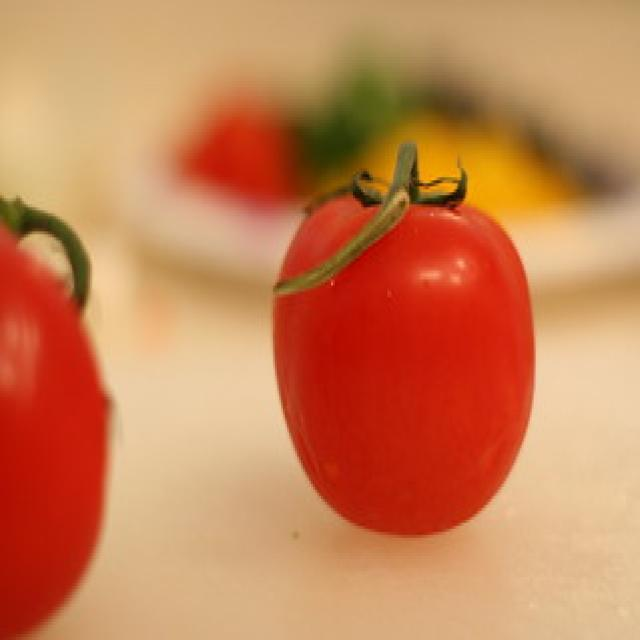Tomato: (266, 164, 541, 547)
